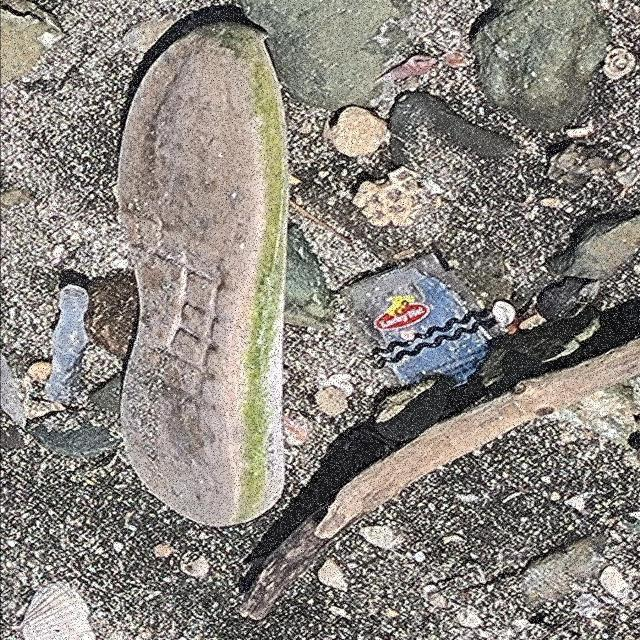plastic_waste: (339, 257, 488, 391)
rubber_waste: (120, 23, 284, 531)
